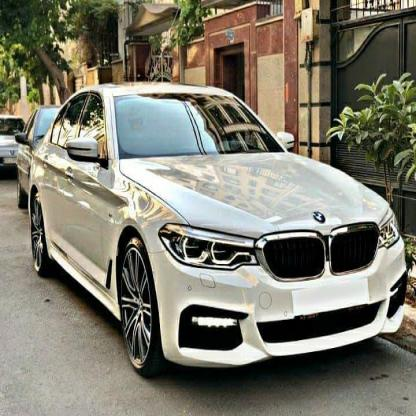Car: (34, 87, 409, 384), (21, 105, 63, 189), (0, 110, 27, 171)
